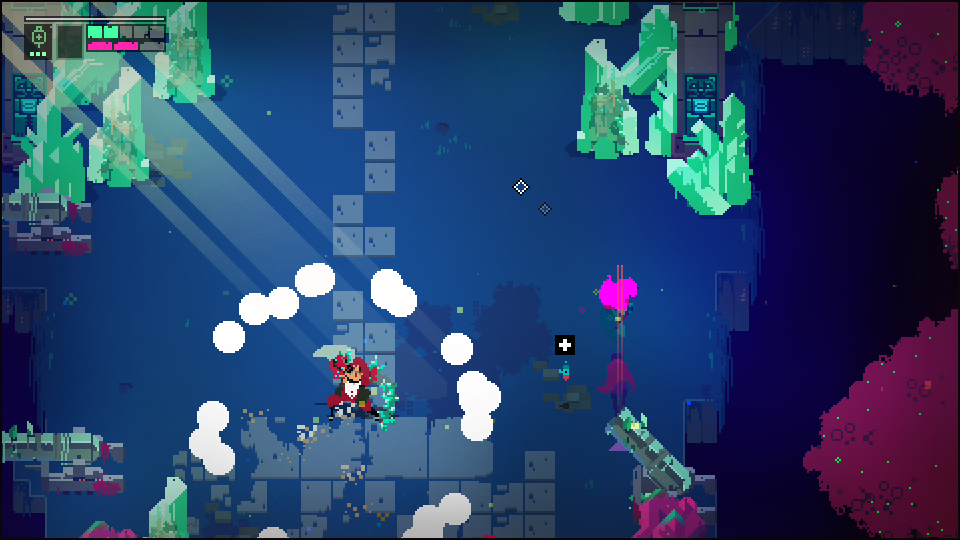hanged_man: (308, 341, 400, 437)
player: (600, 270, 641, 315)
